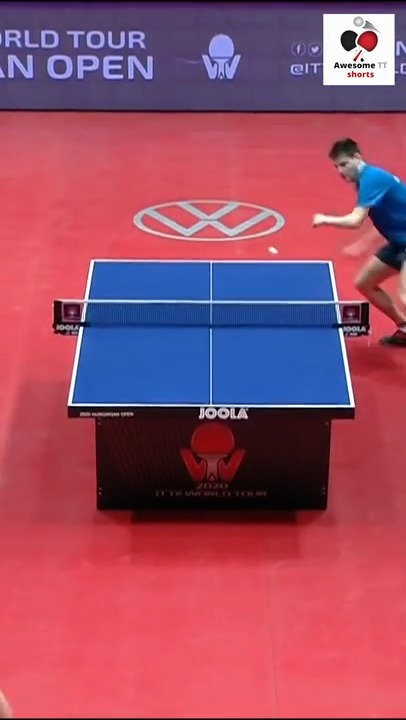Ball: (268, 247, 280, 256)
